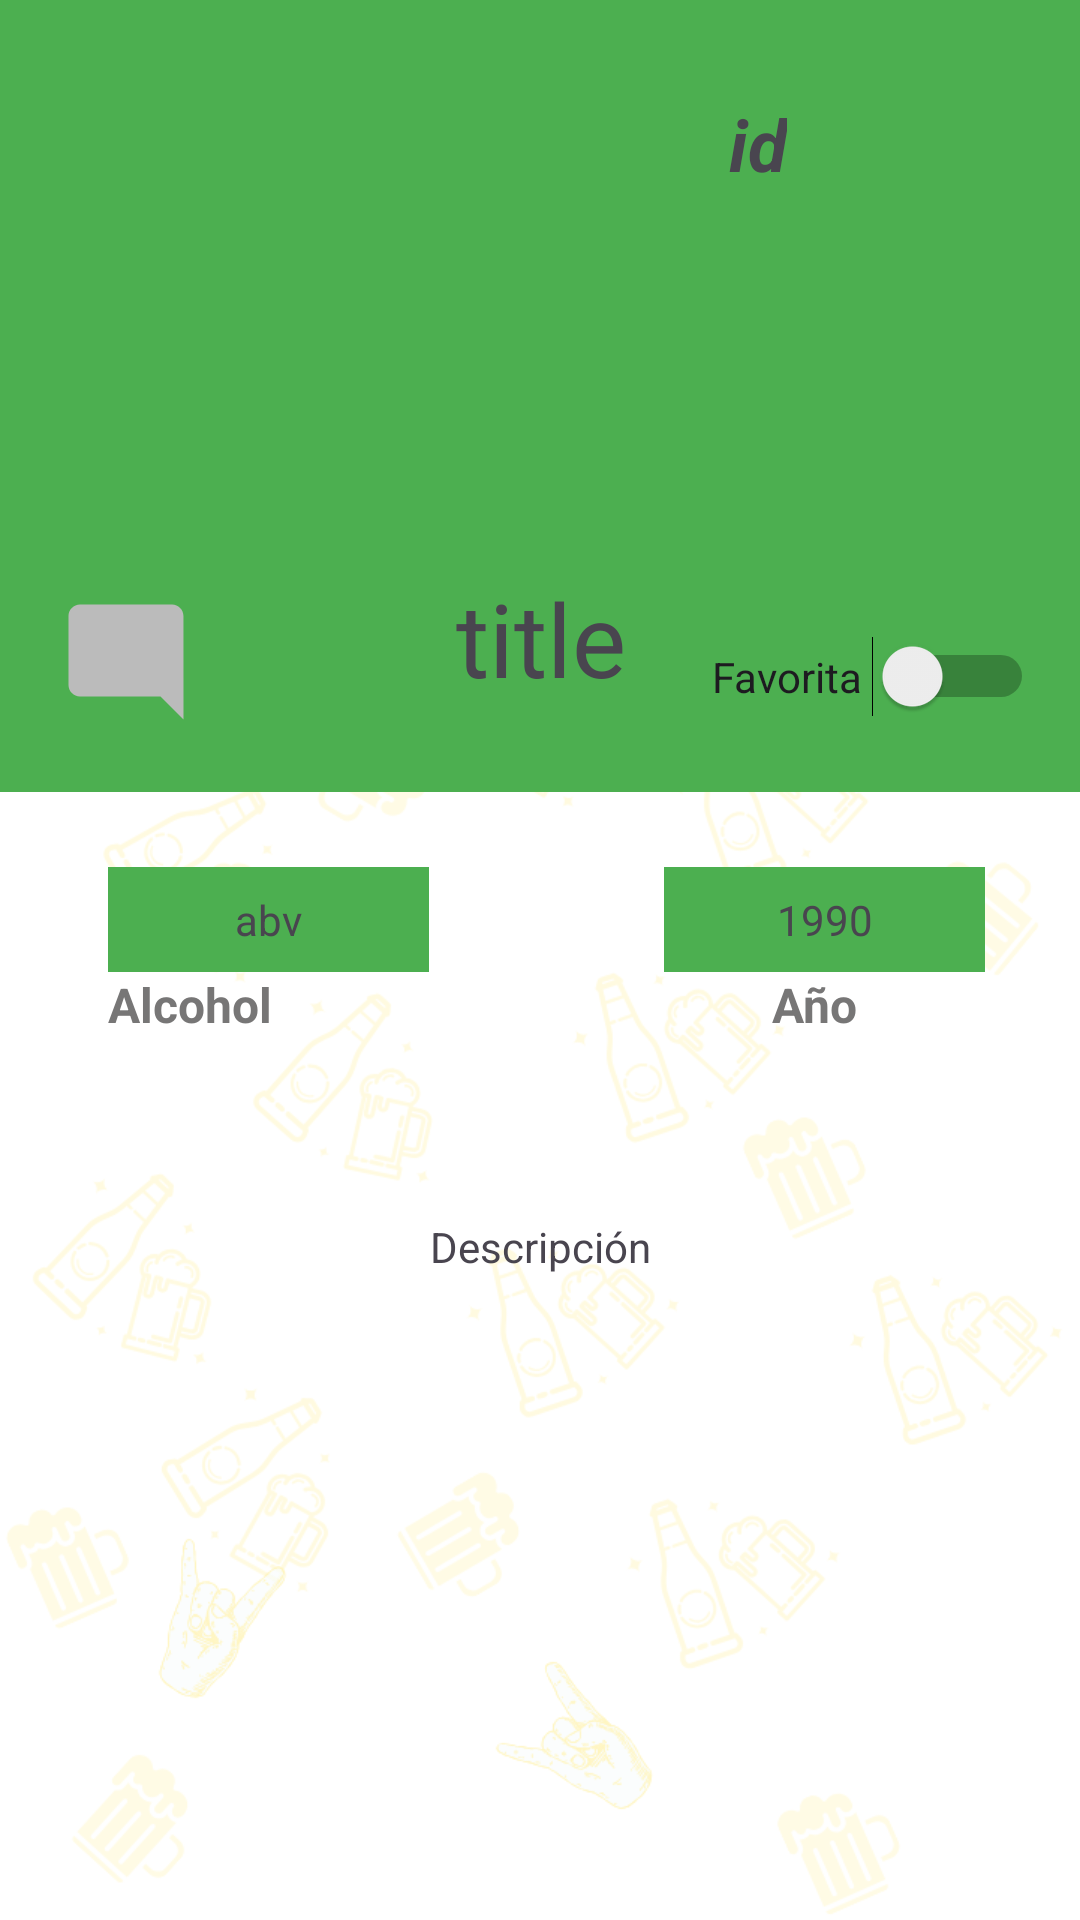

Where to tap for icons on this 1080 × 1920 app screen, as (x=x, y=y):
mode comment: (x=126, y=661)
